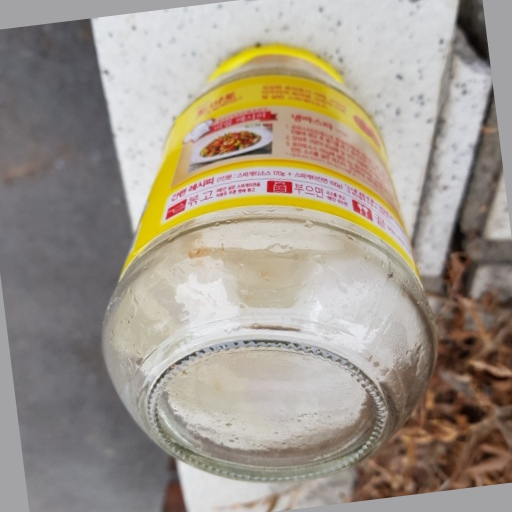Glass_5: (99, 44, 438, 474)
